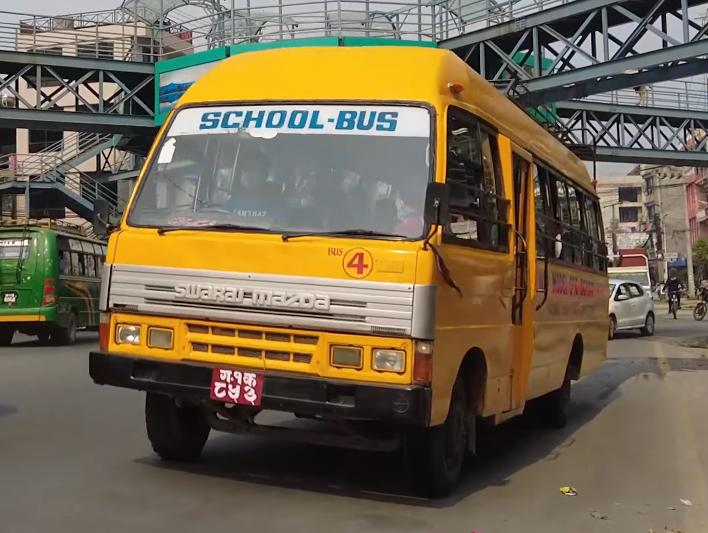bus: (0, 212, 112, 348)
car: (602, 275, 658, 337)
school_bus: (82, 43, 612, 495)
